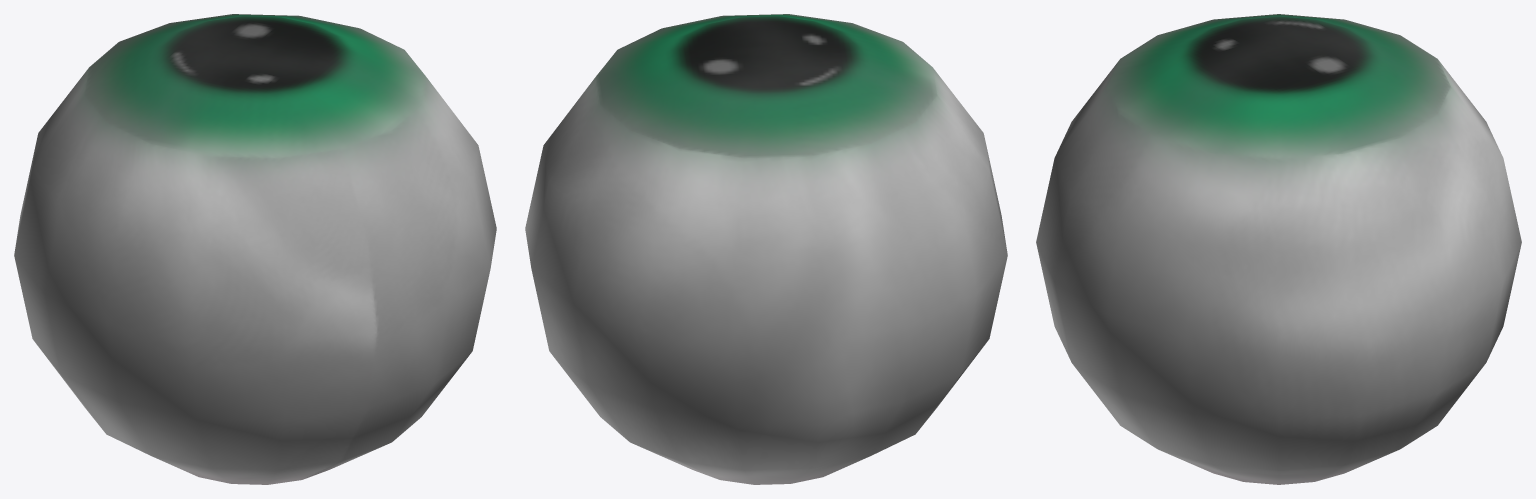
Rendered from Eyeball.fbx.
The picture shows the model from 3 angles, left to right: view 1: azimuth 30°, elevation 25°; view 2: azimuth 150°, elevation 25°; view 3: azimuth 270°, elevation 25°; orthographic projection.
Parts seen in each view (by area): view 1: Eyeball; view 2: Eyeball; view 3: Eyeball.
Boxes of the visible parts, bbox=[...] form: Eyeball: bbox=[14, 14, 496, 484]; Eyeball: bbox=[525, 14, 1007, 484]; Eyeball: bbox=[1036, 14, 1521, 484].
Size of the model in its own units: 200 by 186 by 200.
